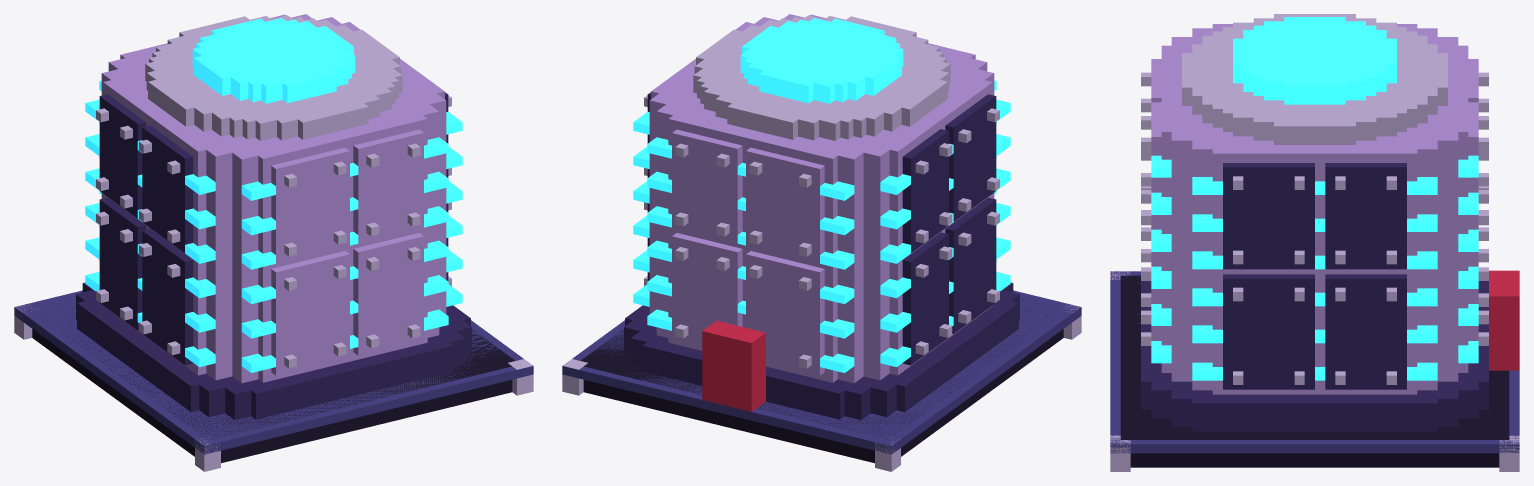
File: shield-generator.lg.glb
3 renders of one model, left to right at view 1: azimuth 30°, elevation 25°; view 2: azimuth 150°, elevation 25°; view 3: azimuth 270°, elevation 25°, orthographic. The views are drawn at different scales.
Parts seen in each view (by area): view 1: shield-generator.lg; view 2: shield-generator.lg; view 3: shield-generator.lg.
Boxes of the visible parts, box(x1,y1,x2,y2) form: shield-generator.lg: box(14, 14, 533, 471); shield-generator.lg: box(562, 14, 1081, 471); shield-generator.lg: box(1110, 14, 1519, 471).
Bounding box in the file's own units: 2.5 × 2.25 × 2.5.
